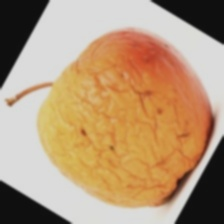apple: (0, 2, 196, 184)
